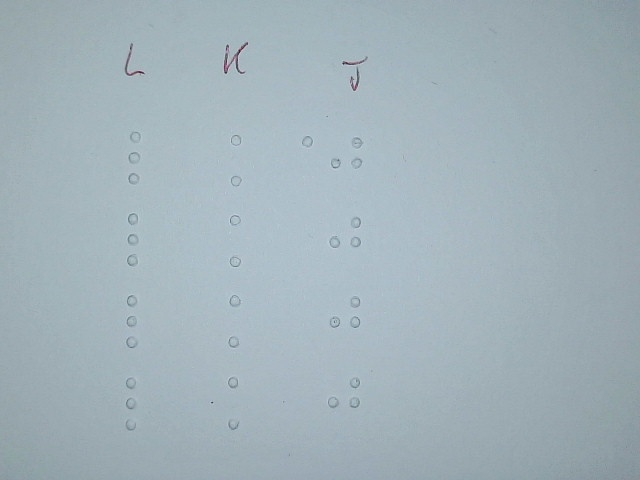J: (327, 129, 366, 185), (326, 208, 365, 264), (325, 287, 364, 343), (324, 366, 363, 422)
K: (220, 129, 269, 188), (219, 210, 268, 269), (217, 291, 266, 350), (217, 373, 266, 432)
L: (119, 128, 168, 187), (116, 209, 165, 268), (116, 292, 165, 351), (117, 374, 166, 433)
